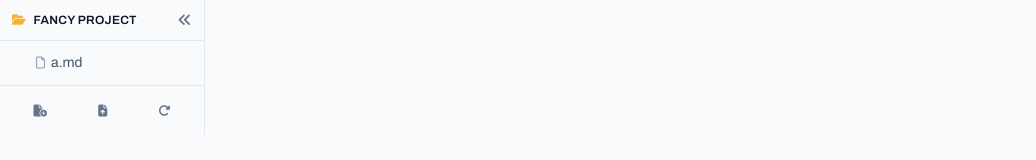
Test: ProjectChatSplit › opening a file overlays the editor on the chat; closing removes it
The width and height of the screenshot is (1036, 160).
Click the element with test id "tree-node-a.md" at (59, 62), box [36, 55, 82, 70]
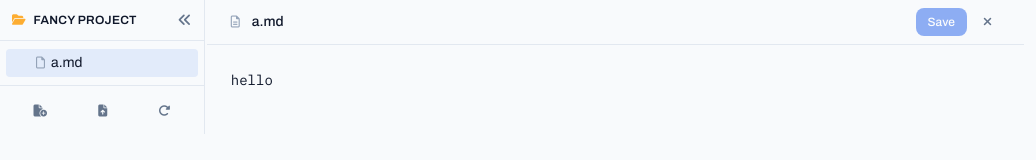
Now the element with test id "editor-overlay" is shown
Click the button named "Close editor" at (988, 22), box [975, 8, 1000, 36]
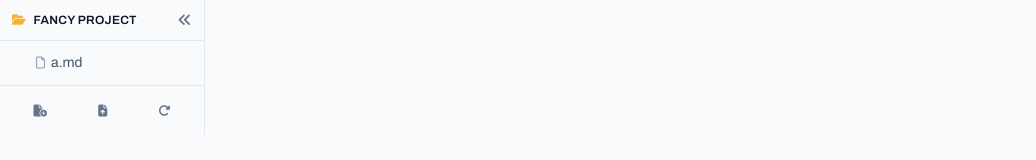
Now the element with test id "editor-overlay" is gone
